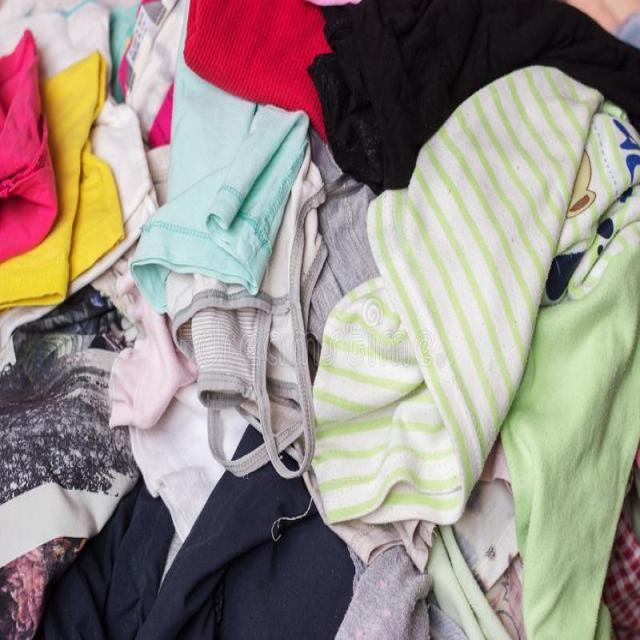clothes: (39, 34, 592, 584)
